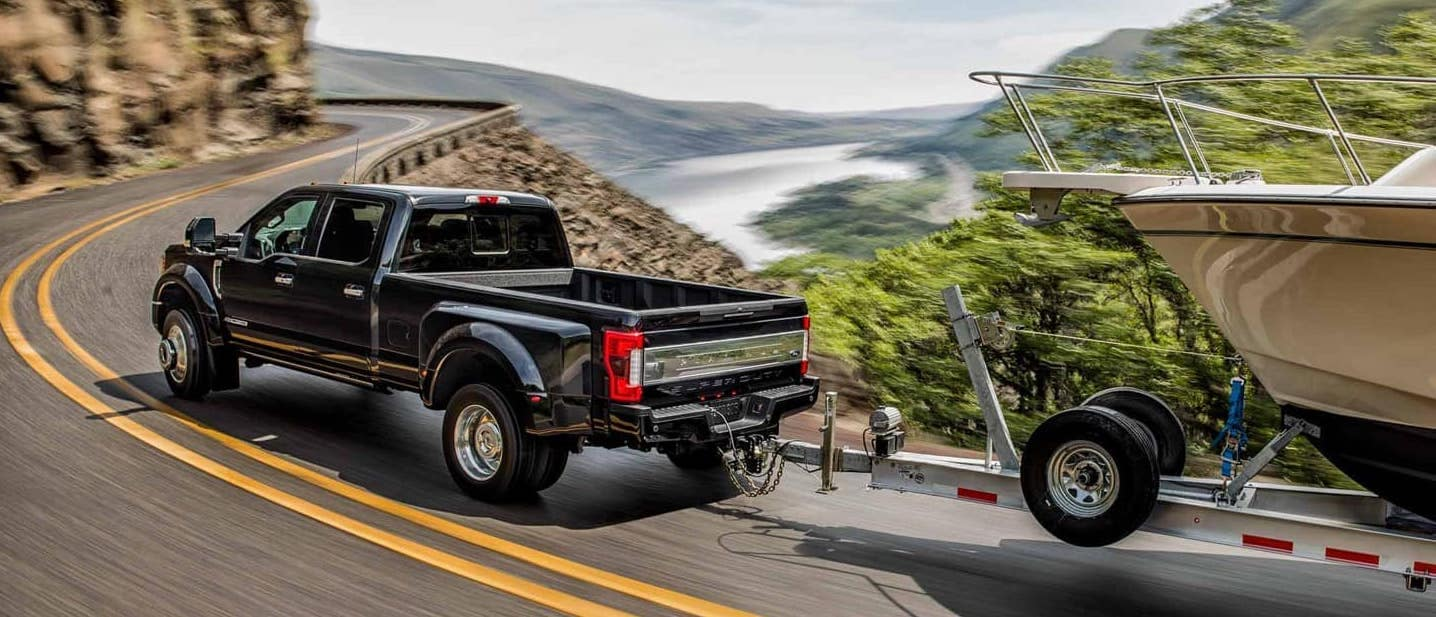Car: (141, 173, 828, 511)
